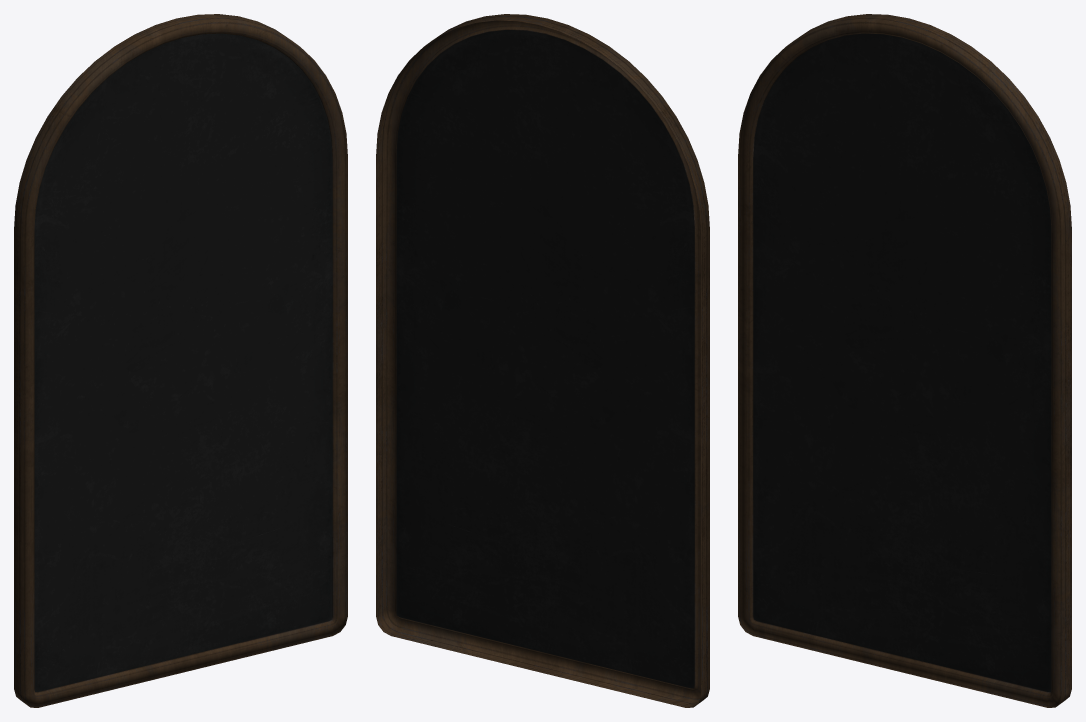
Rendered from Mirror1.fbx.
3 views of the same model, side by side, from view 1: azimuth 30°, elevation 25°; view 2: azimuth 150°, elevation 25°; view 3: azimuth 330°, elevation 25° (orthographic).
Parts seen in each view (by area): view 1: polySurface280; view 2: polySurface280; view 3: polySurface280.
Part boxes in pixels (x1,y1,x2,y2): polySurface280: (14,14,347,707); polySurface280: (376,14,709,707); polySurface280: (738,14,1071,707).
Size of the model in its own units: 74.61 by 142 by 3.56.
